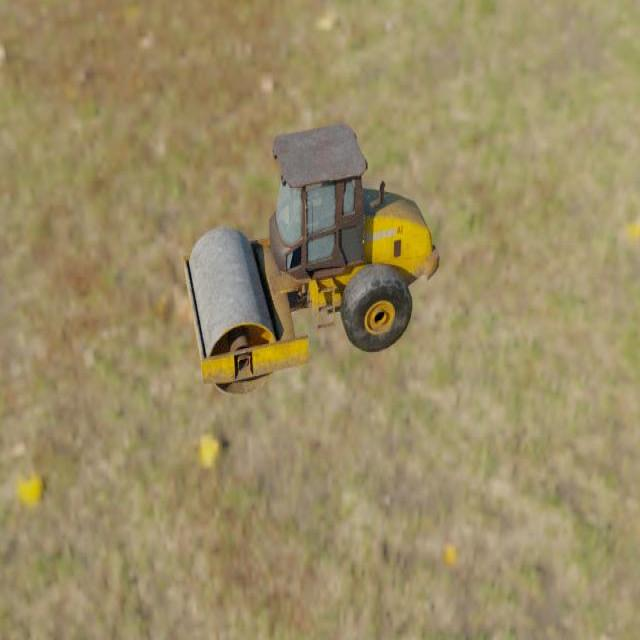Roller: (181, 123, 440, 396)
